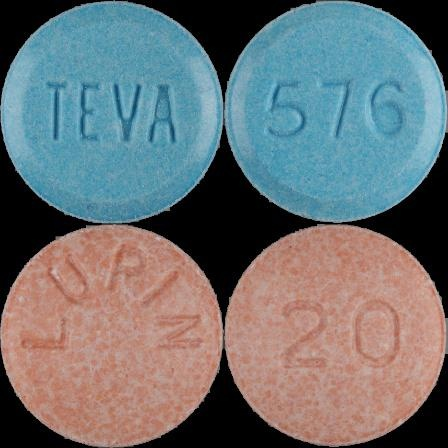54458-871: (0, 0, 224, 224)
